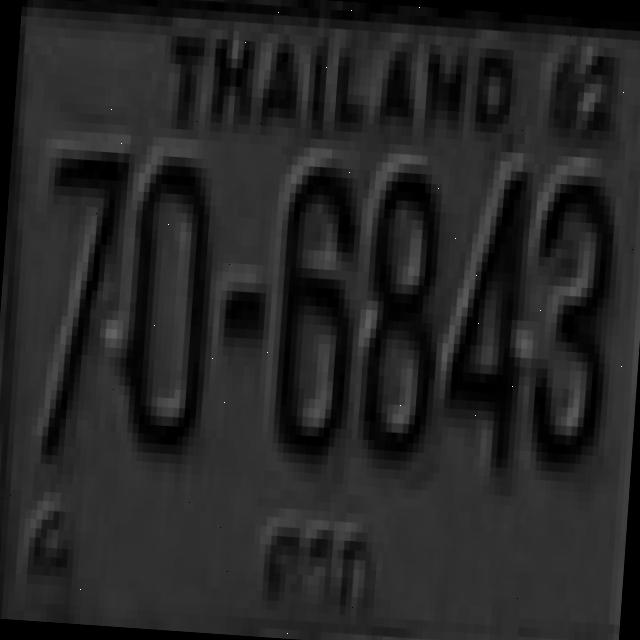0: (117, 148, 216, 450)
3: (524, 168, 618, 470)
4: (439, 158, 534, 468)
6: (268, 155, 362, 456)
7: (30, 143, 130, 454), (36, 138, 130, 376)
8: (356, 161, 444, 462)
Tak: (251, 510, 387, 628)
